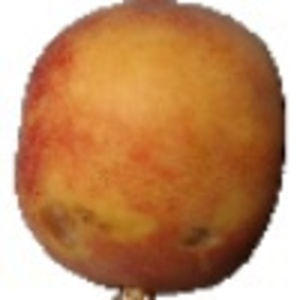pêssego: (11, 1, 289, 300)
